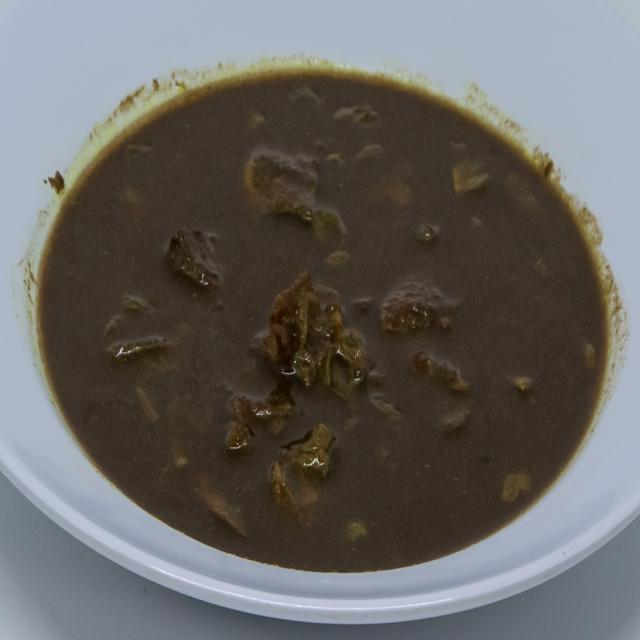Rawon-Surabaya: (31, 46, 620, 576)
